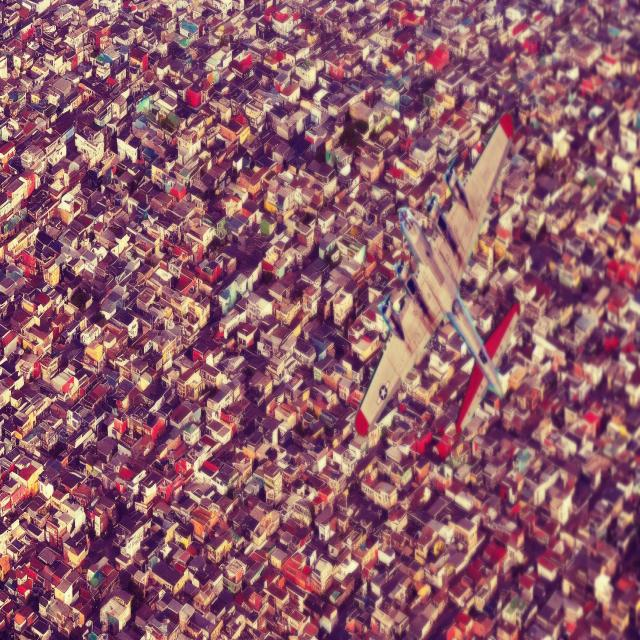airplane: (354, 111, 515, 440)
